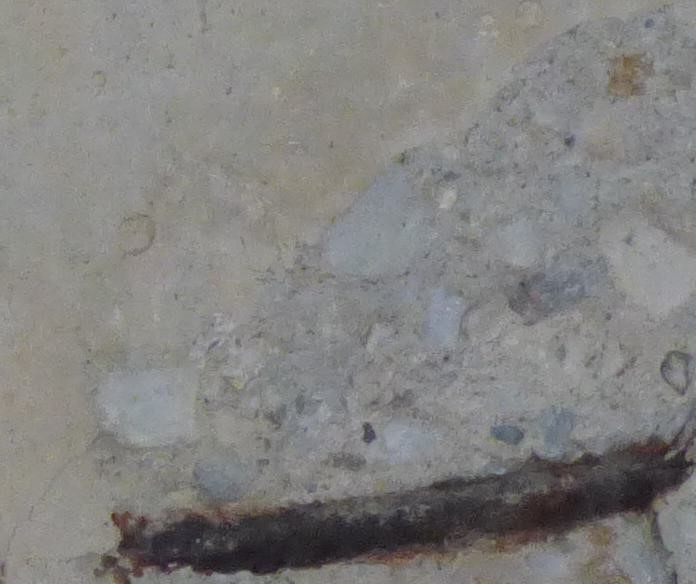Exposed reinforcement: (93, 433, 696, 584)
Spalling: (86, 1, 696, 584)
